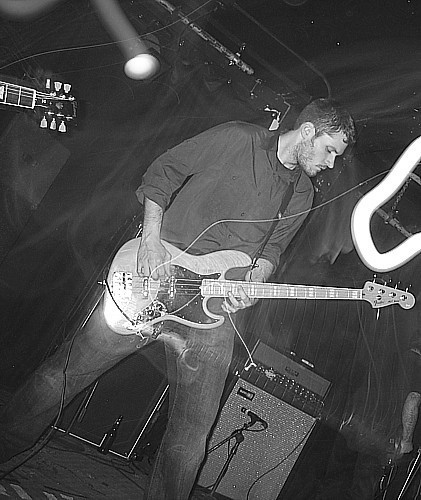head: (295, 98, 356, 178)
person: (100, 92, 367, 500)
